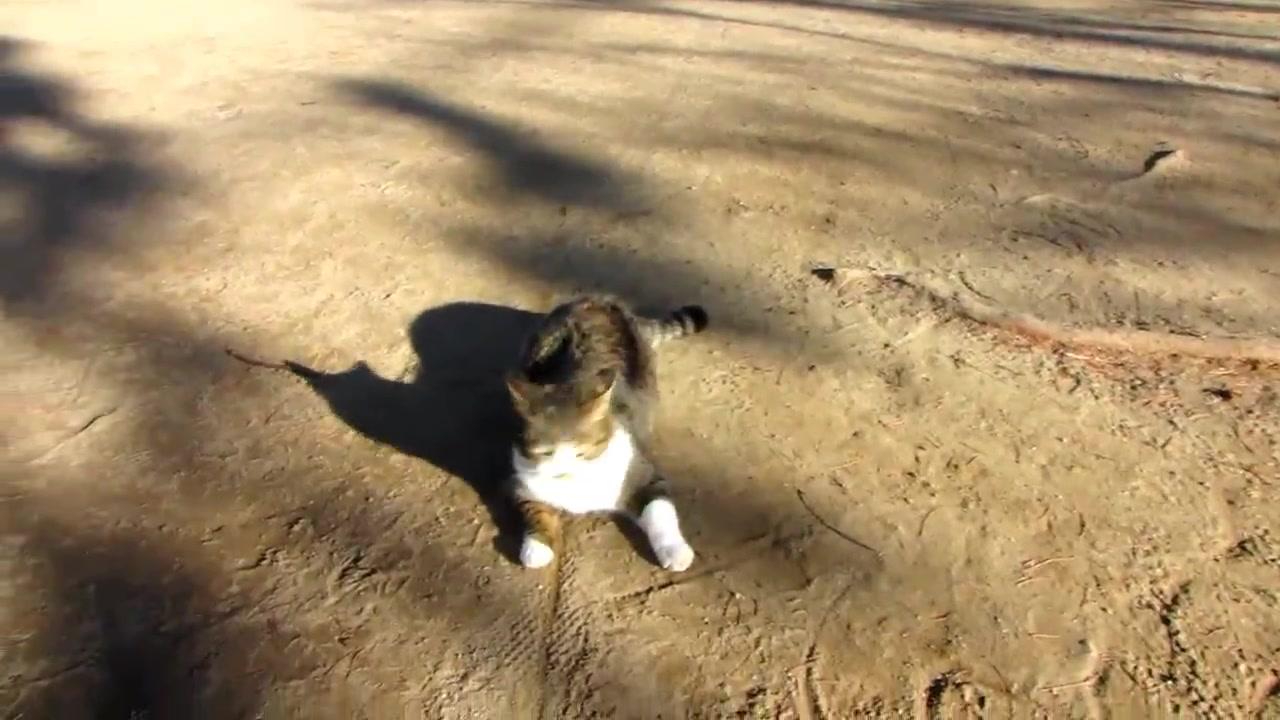cat: (501, 296, 712, 575)
